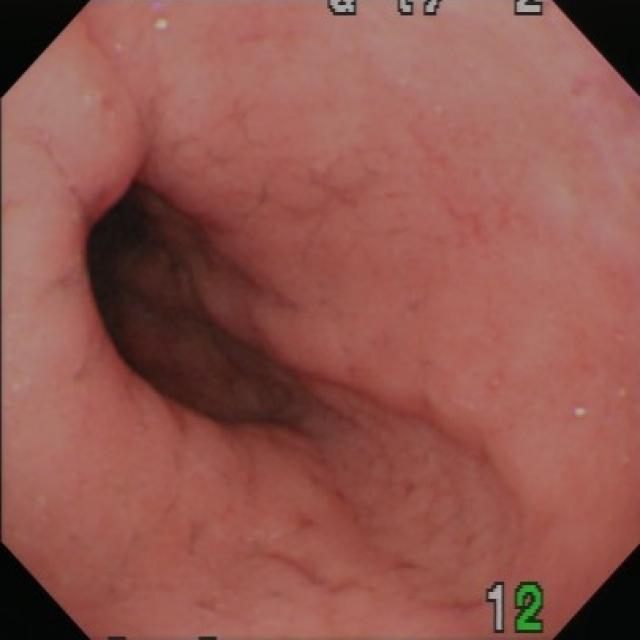E: (67, 161, 333, 447)
S: (488, 583, 549, 638), (327, 3, 548, 18)
U: (155, 3, 169, 32), (572, 408, 588, 420)
